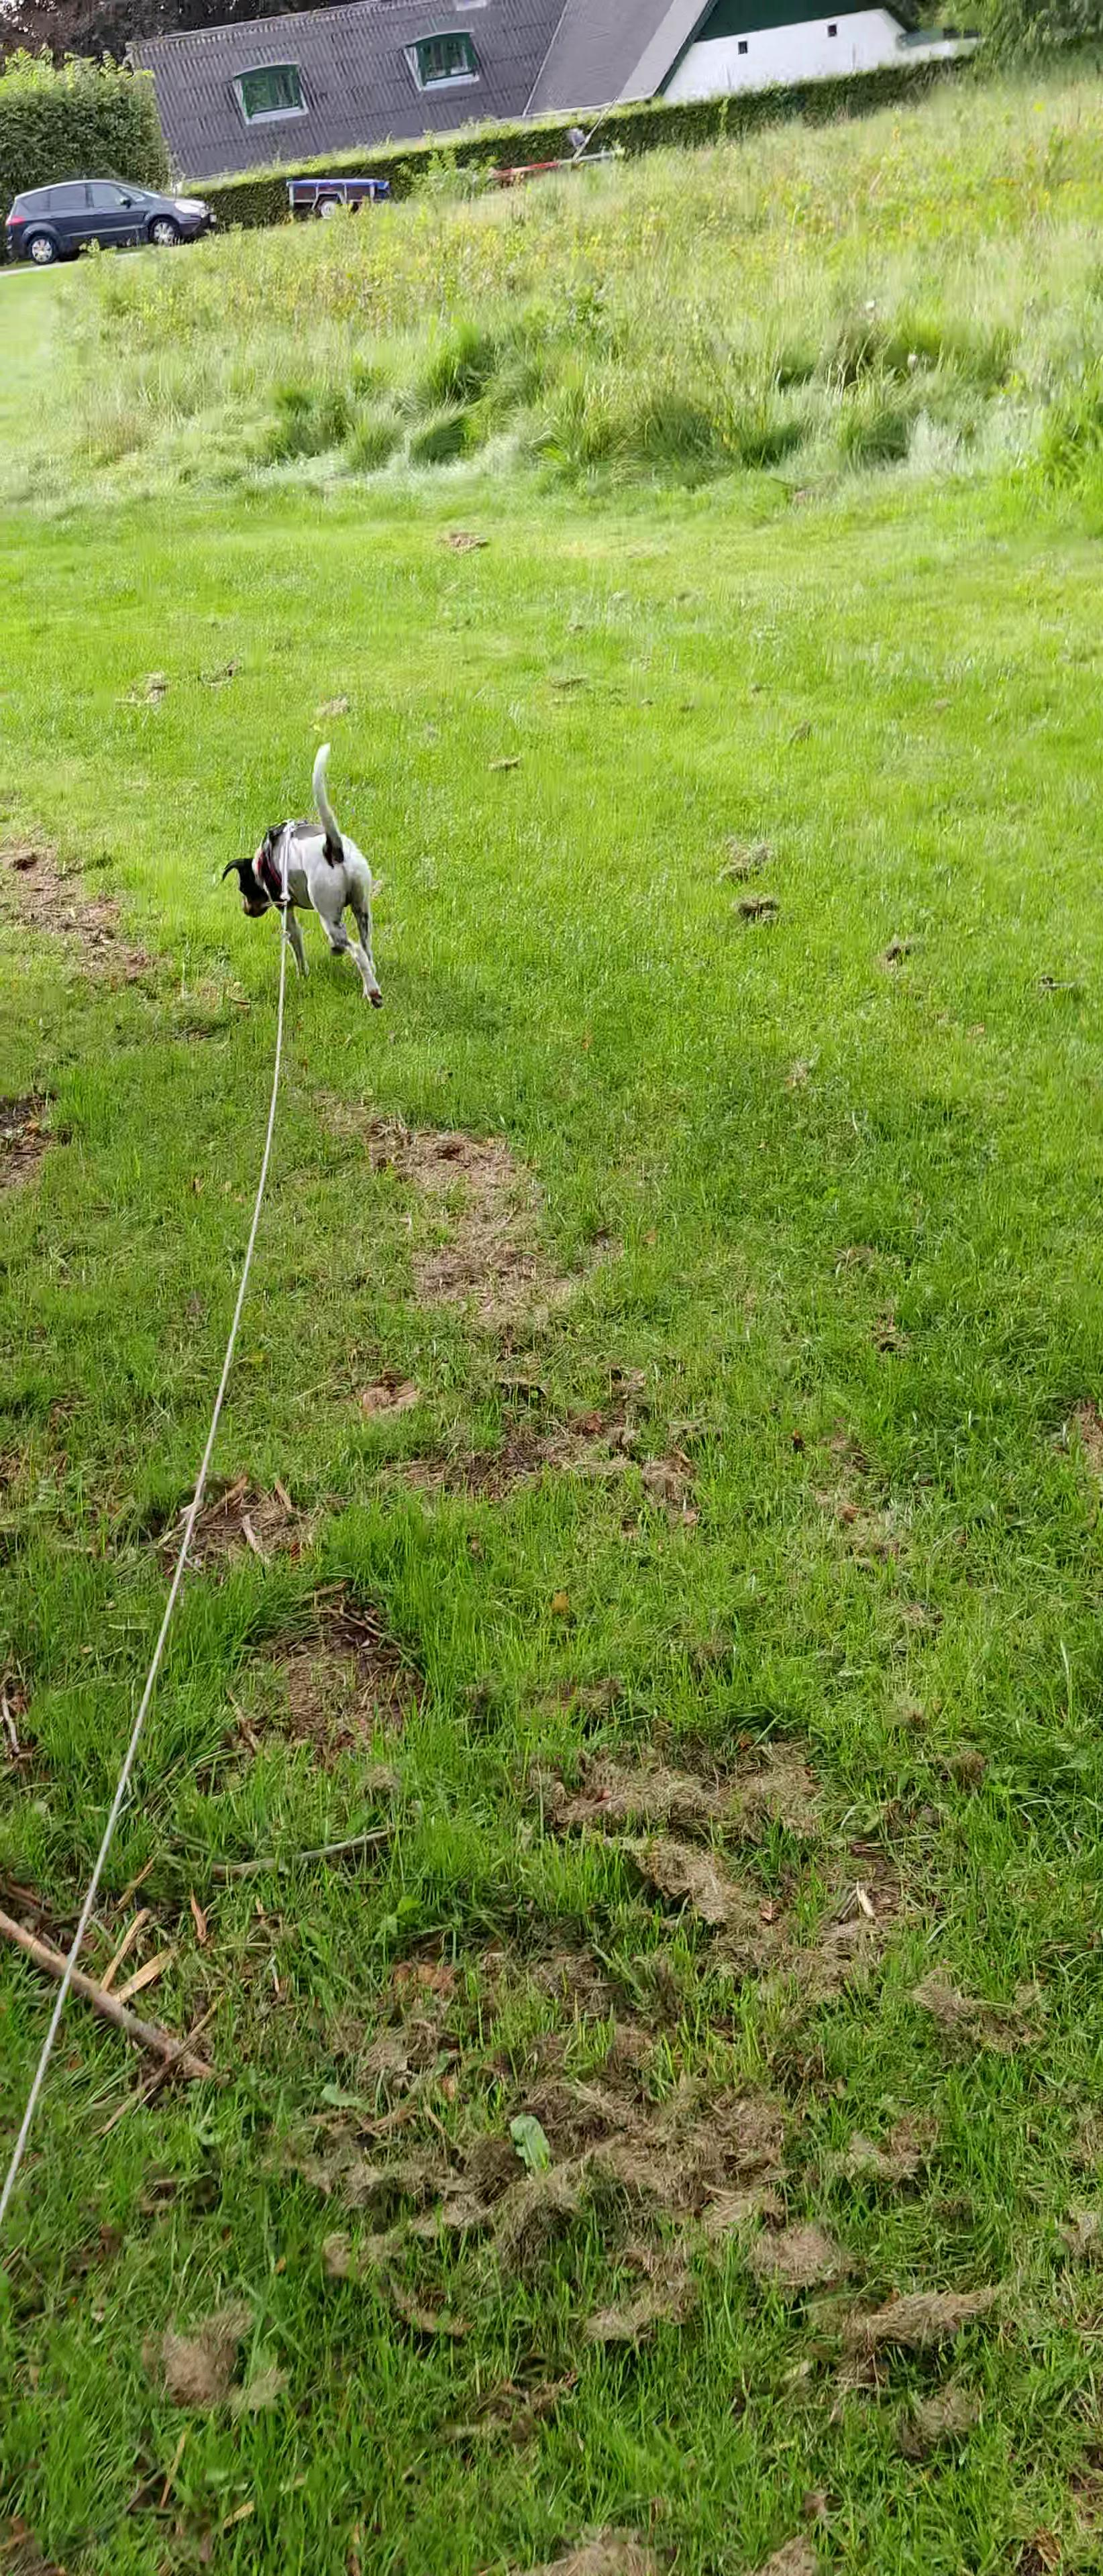Dog: (215, 736, 388, 1014)
